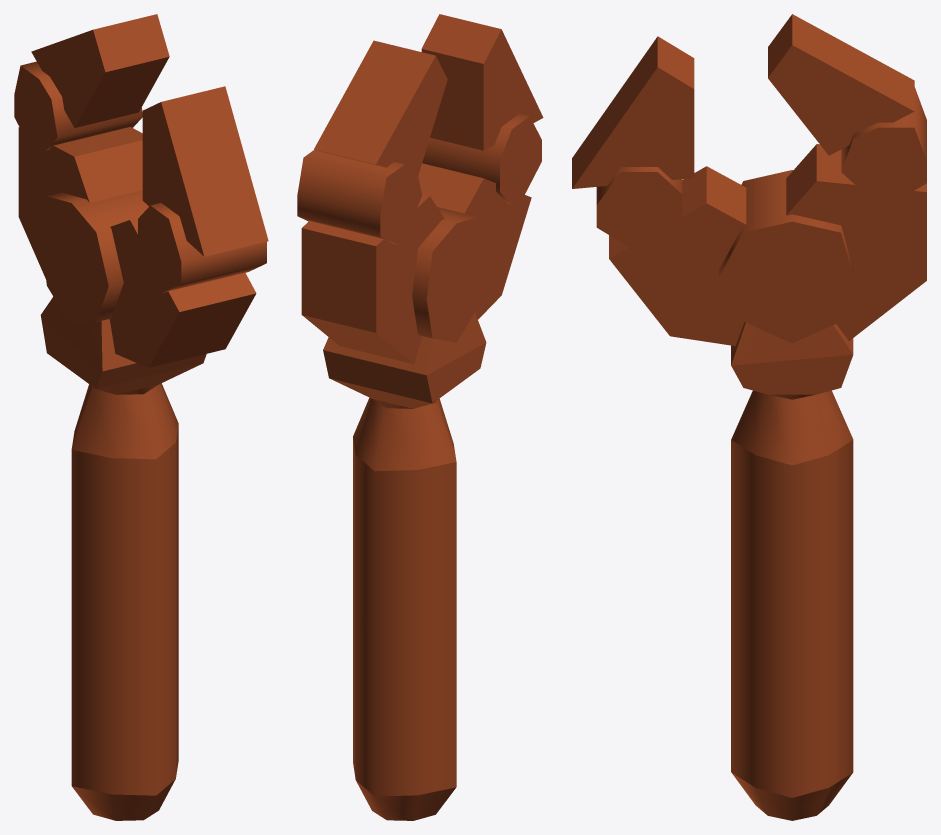
The model's file is wrench.obj.
3 views of the same model, side by side, from view 1: azimuth 30°, elevation 25°; view 2: azimuth 150°, elevation 25°; view 3: azimuth 270°, elevation 25° (orthographic). The views are drawn at different scales.
Parts seen in each view (by area): view 1: wrench_ref_Mesh_0536; view 2: wrench_ref_Mesh_0536; view 3: wrench_ref_Mesh_0536.
Part boxes in pixels (x1,y1,x2,y2): wrench_ref_Mesh_0536: (14, 14, 268, 820); wrench_ref_Mesh_0536: (297, 14, 543, 820); wrench_ref_Mesh_0536: (572, 14, 926, 820).
Size of the model in its own units: 0.1686 by 1.18 by 0.4889.
